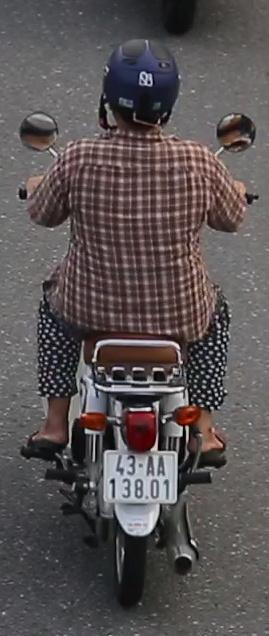LP: (93, 33, 184, 153), (102, 443, 182, 509)
